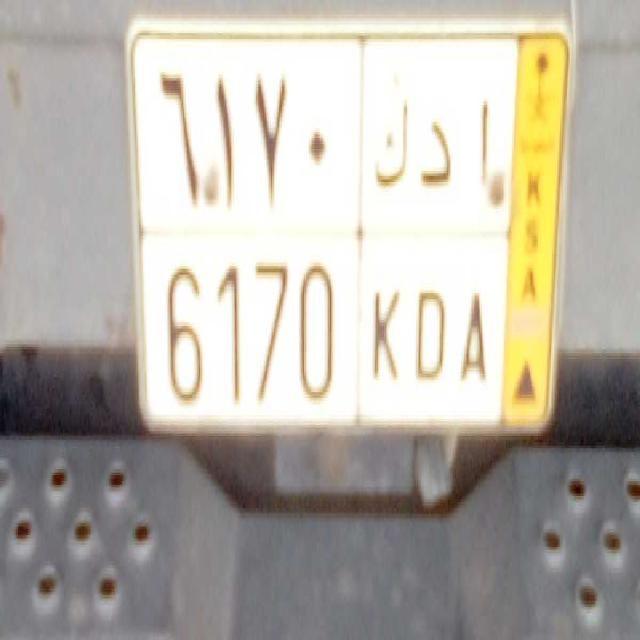license_plate: (140, 226, 502, 423)
